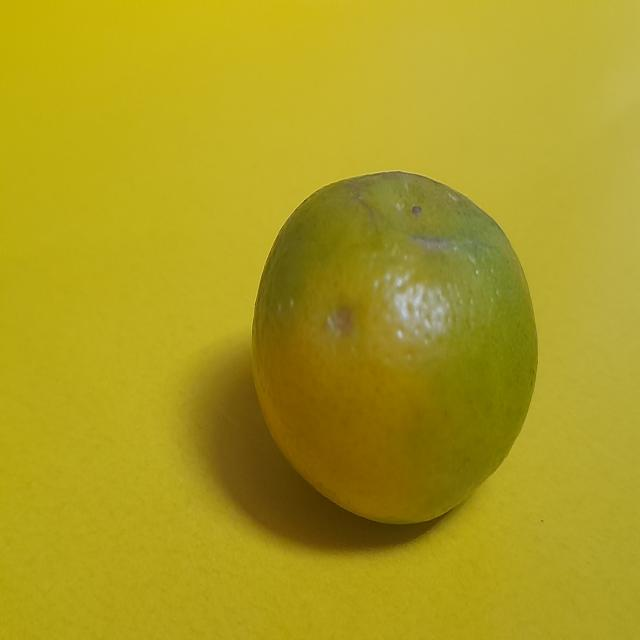greening: (245, 156, 547, 542)
